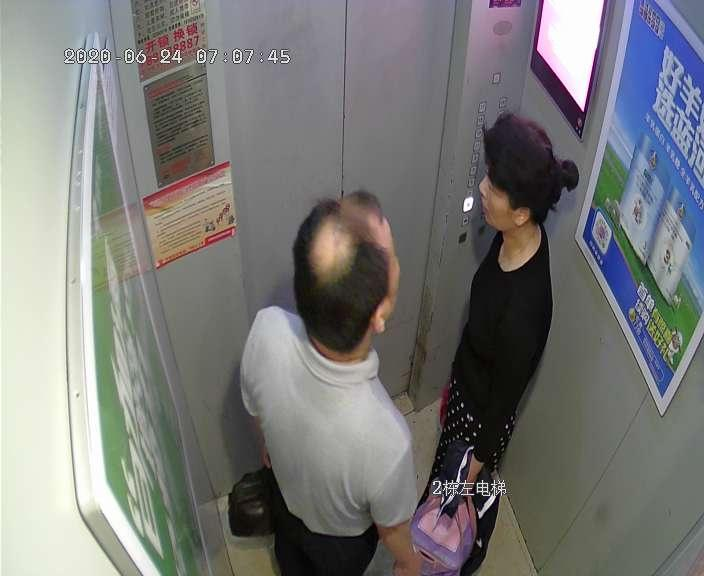person: (418, 116, 573, 572), (239, 192, 421, 576)
